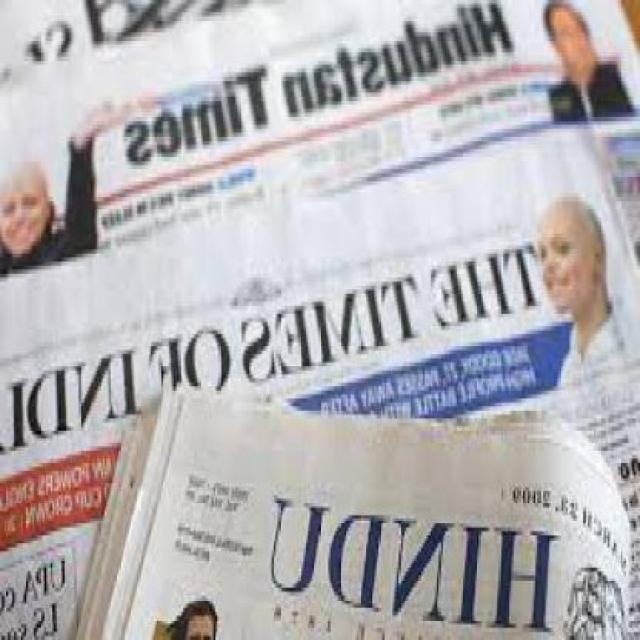PAPER: (2, 110, 640, 636), (2, 0, 640, 262), (77, 387, 634, 636), (2, 0, 273, 92)
